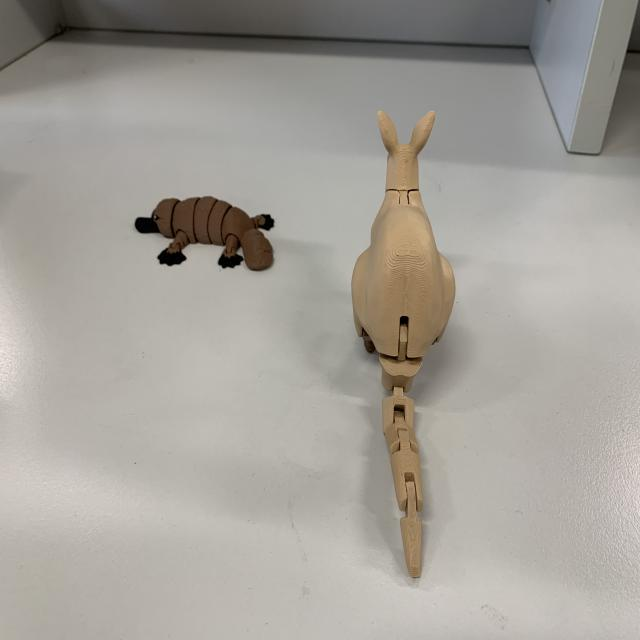kangaroo: (346, 101, 461, 580)
platypus: (133, 181, 291, 297)
